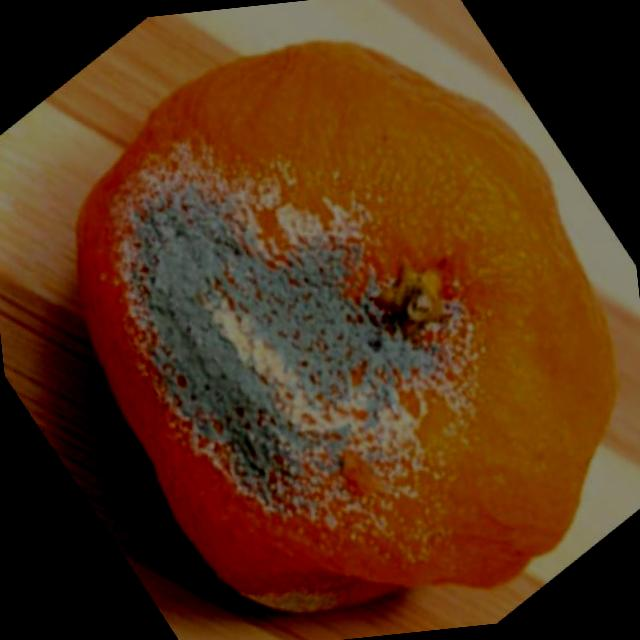Orange: (55, 9, 639, 634)
